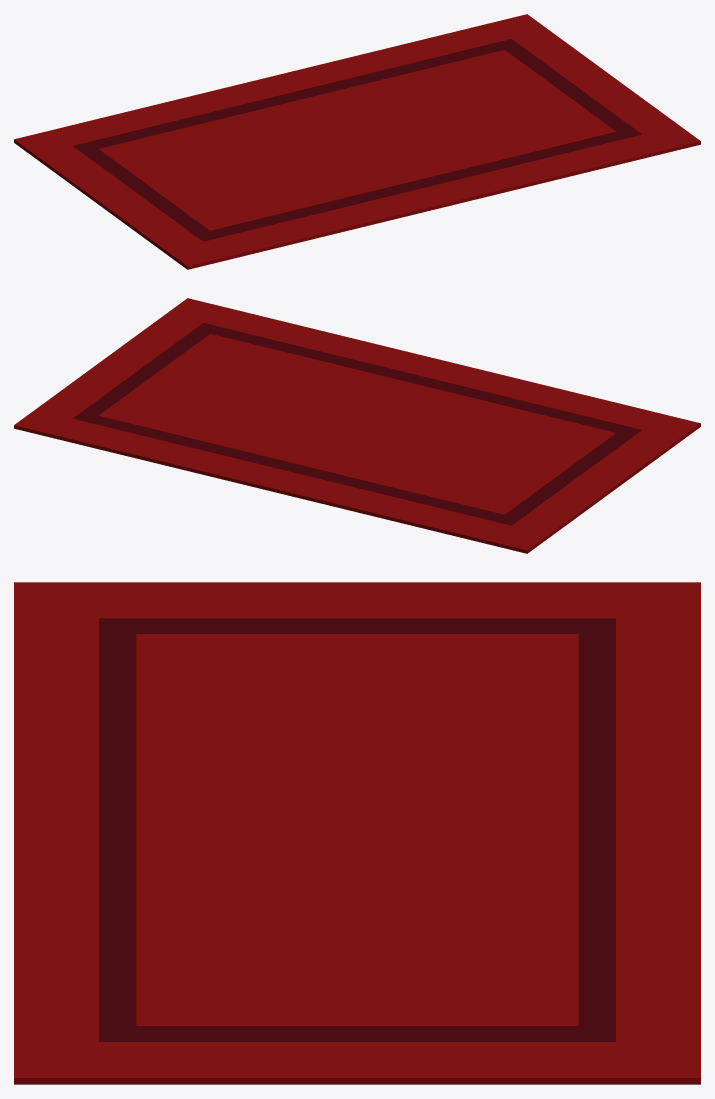
Rendered from rug.glb.
The picture shows the model from 3 angles, top to bottom: view 1: azimuth 30°, elevation 25°; view 2: azimuth 150°, elevation 25°; view 3: azimuth 270°, elevation 25°; orthographic projection. The views are drawn at different scales.
Visible parts, largest first — view 1: rugRectangle_1; view 2: rugRectangle_1; view 3: rugRectangle_1.
Part boxes in pixels (x1,y1,x2,y2): rugRectangle_1: (14,14,700,269); rugRectangle_1: (14,298,700,553); rugRectangle_1: (14,582,700,1084).
Bounding box in the file's own units: 1.57 × 0.01 × 0.92.
